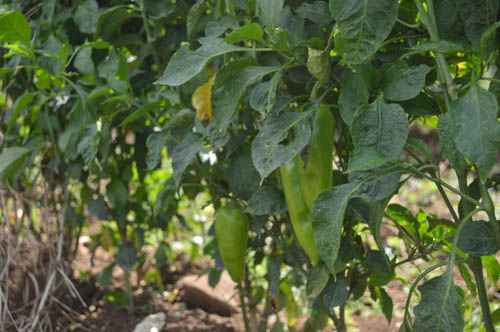ChiliPepper: (276, 161, 322, 261), (303, 108, 343, 215), (218, 208, 250, 285)
